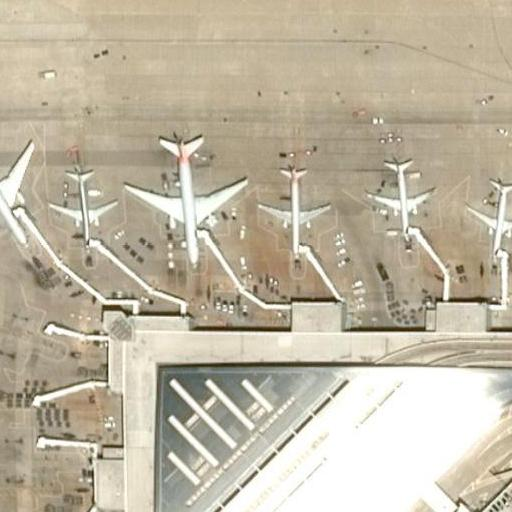Aircraft: (122, 134, 248, 265), (258, 167, 330, 253), (367, 158, 431, 238), (48, 168, 112, 246), (0, 125, 34, 247), (462, 177, 512, 258)
